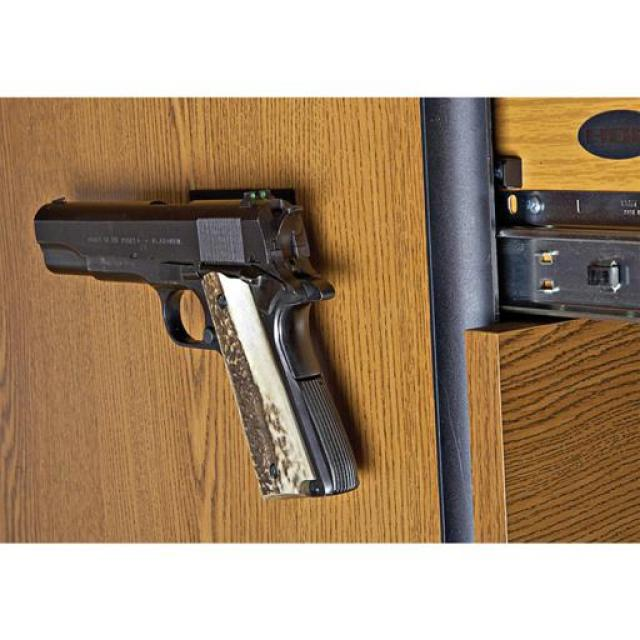pistol: (38, 179, 364, 503)
